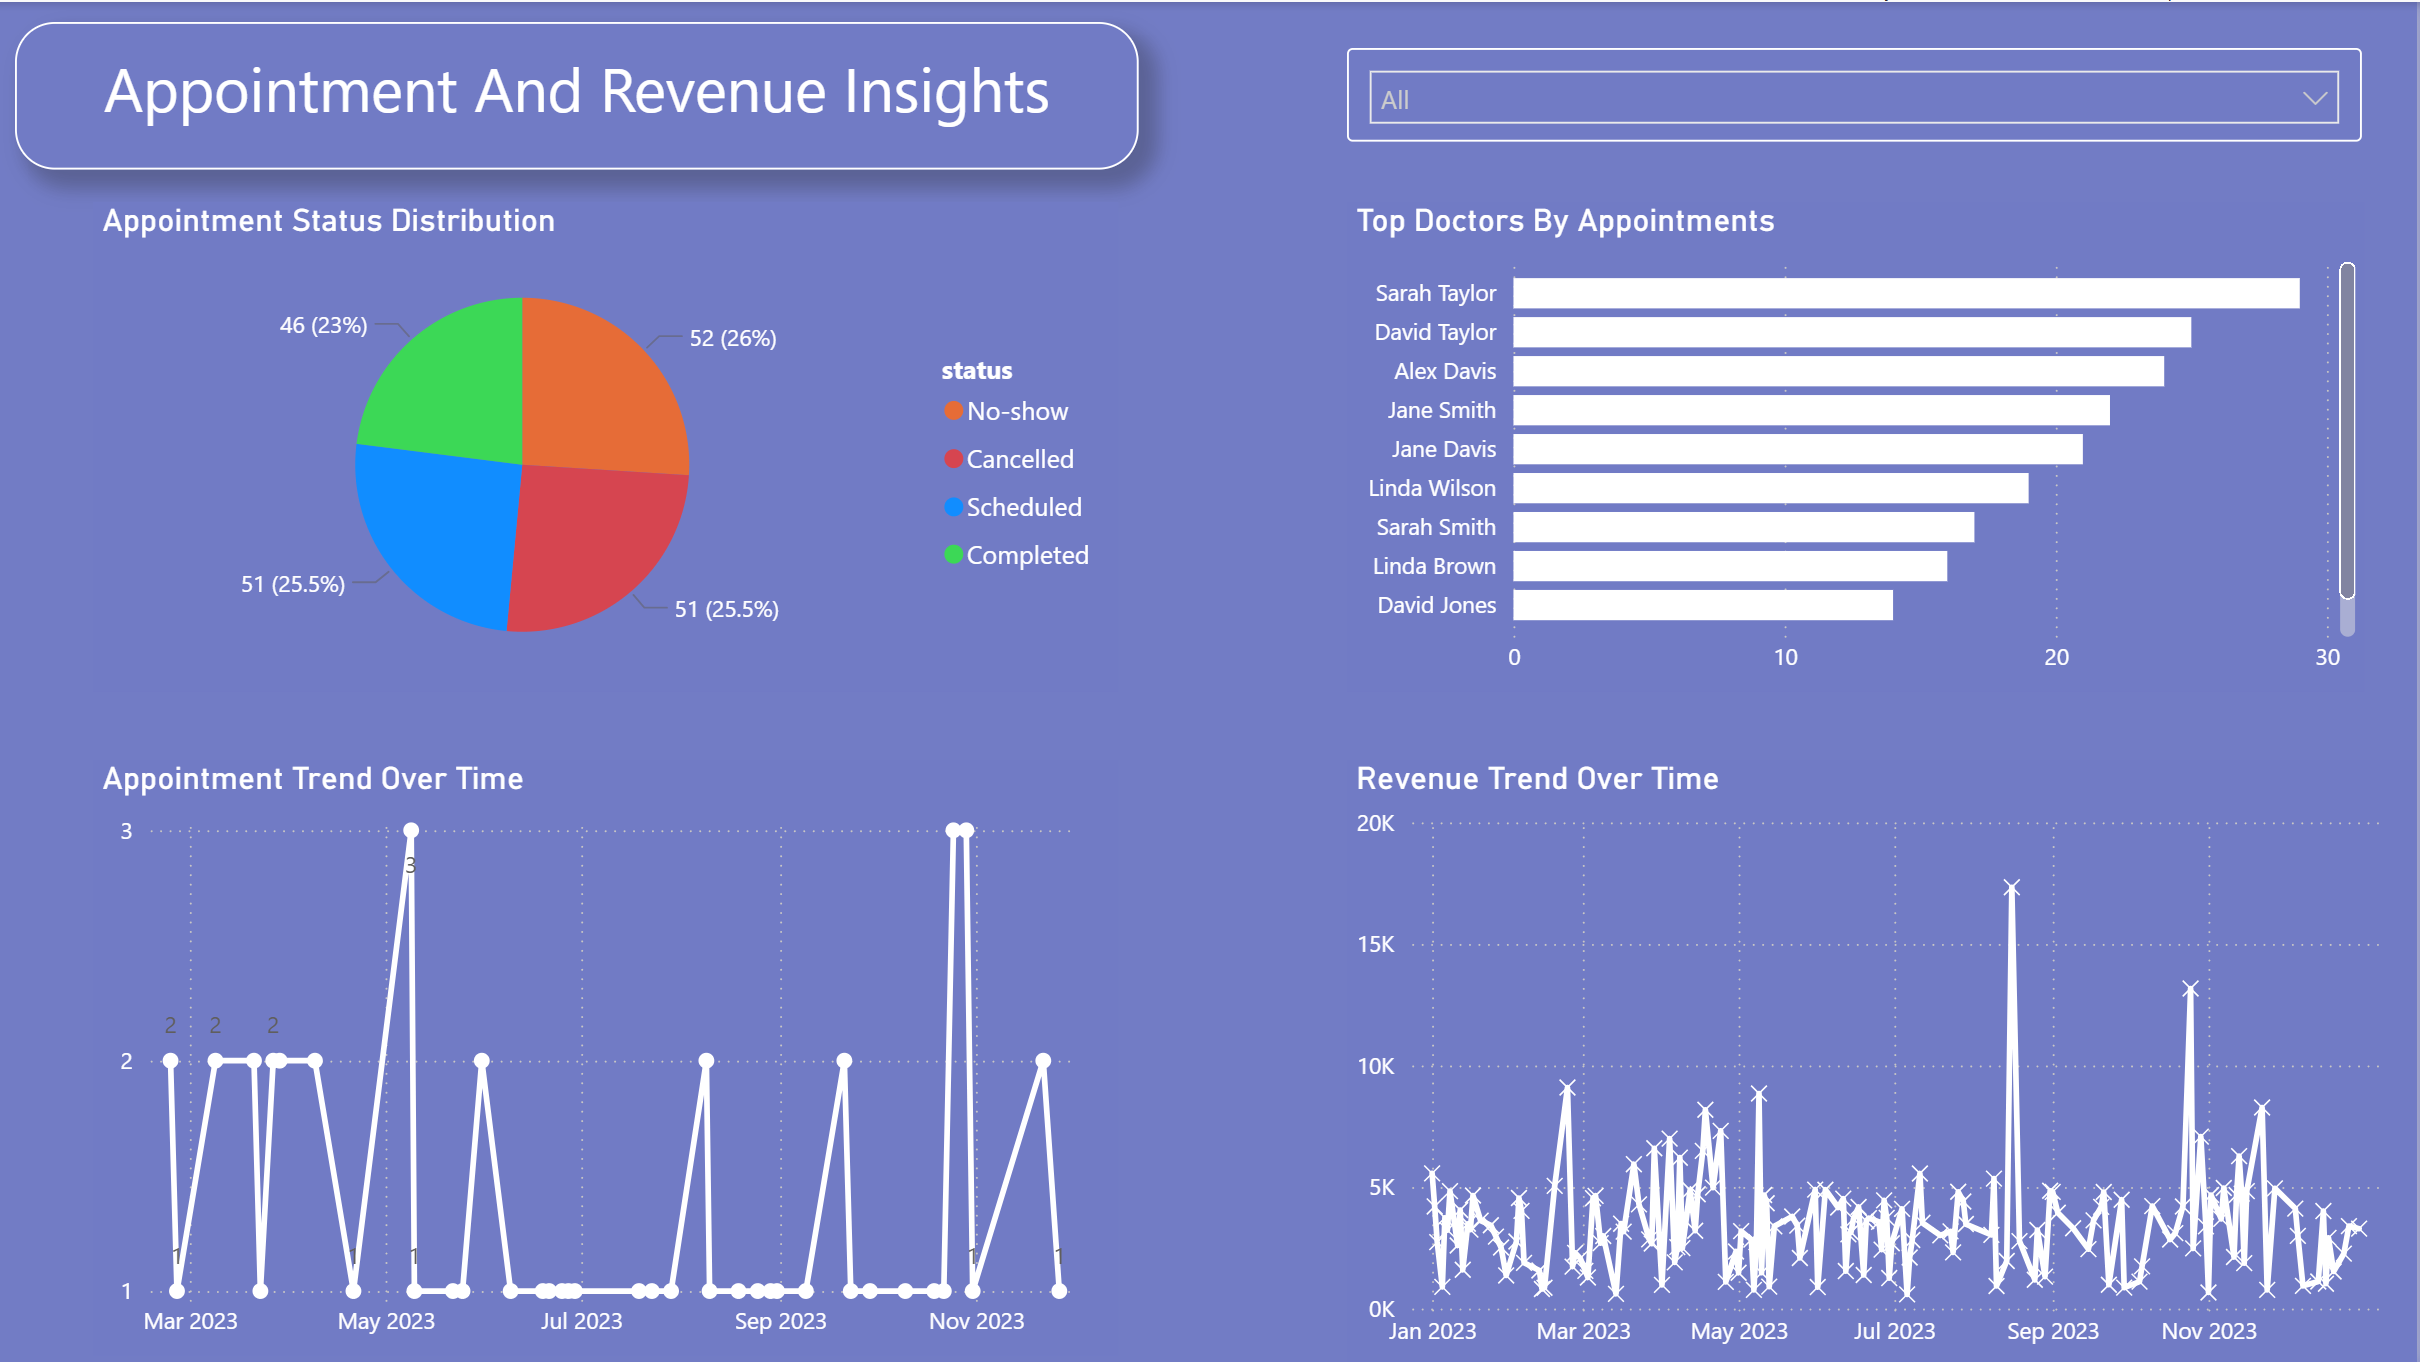

The page's visual inventory and layout, read from the dashboard file:
{"tool":"powerbi","page":{"name":"Page 1","canvas":[1280,720],"ordinal":1},"visuals":[{"type":"lineChart","title":"Revenue Trend Over Time","fields":{"Y":["Sum(billing.amount)"],"Category":["billing.bill_date"]},"box":[715.2,400.3,564.8,320],"z":0},{"type":"lineChart","title":"Appointment Trend Over Time","fields":{"Y":["CountNonNull(appointments.appointment_id)"],"Category":["appointments.appointment_date"]},"box":[21.7,400.3,595.4,314.9],"z":1000},{"type":"textbox","box":[12.7,28,594.1,77.8],"z":2000},{"type":"pieChart","title":"Appointment Status Distribution","fields":{"Category":["appointments.status"],"Y":["CountNonNull(appointments.appointment_id)"]},"box":[21.7,130,594.1,234.6],"z":3000},{"type":"barChart","title":"Top Doctors By Appointments","fields":{"Y":["appointments.Total Appointments"],"Category":["doctors.doctor_name"]},"box":[685.9,105.8,564.8,258.8],"z":4000},{"type":"slicer","fields":{"Values":["appointments.status"]},"box":[715.2,24.2,536.7,49.7],"z":5000}]}

Visuals, with their boxes in screenshot pixels (x1, y1, x2, y2), scaled from the page's 1280x720 canvas onto the 2420x1362 screenshot:
"Revenue Trend Over Time" lineChart: bbox(1352, 757, 2419, 1361)
"Appointment Trend Over Time" lineChart: bbox(41, 757, 1167, 1353)
textbox: bbox(24, 53, 1147, 200)
"Appointment Status Distribution" pieChart: bbox(41, 246, 1164, 690)
"Top Doctors By Appointments" barChart: bbox(1297, 200, 2365, 690)
slicer - appointments.status: bbox(1352, 46, 2367, 140)
